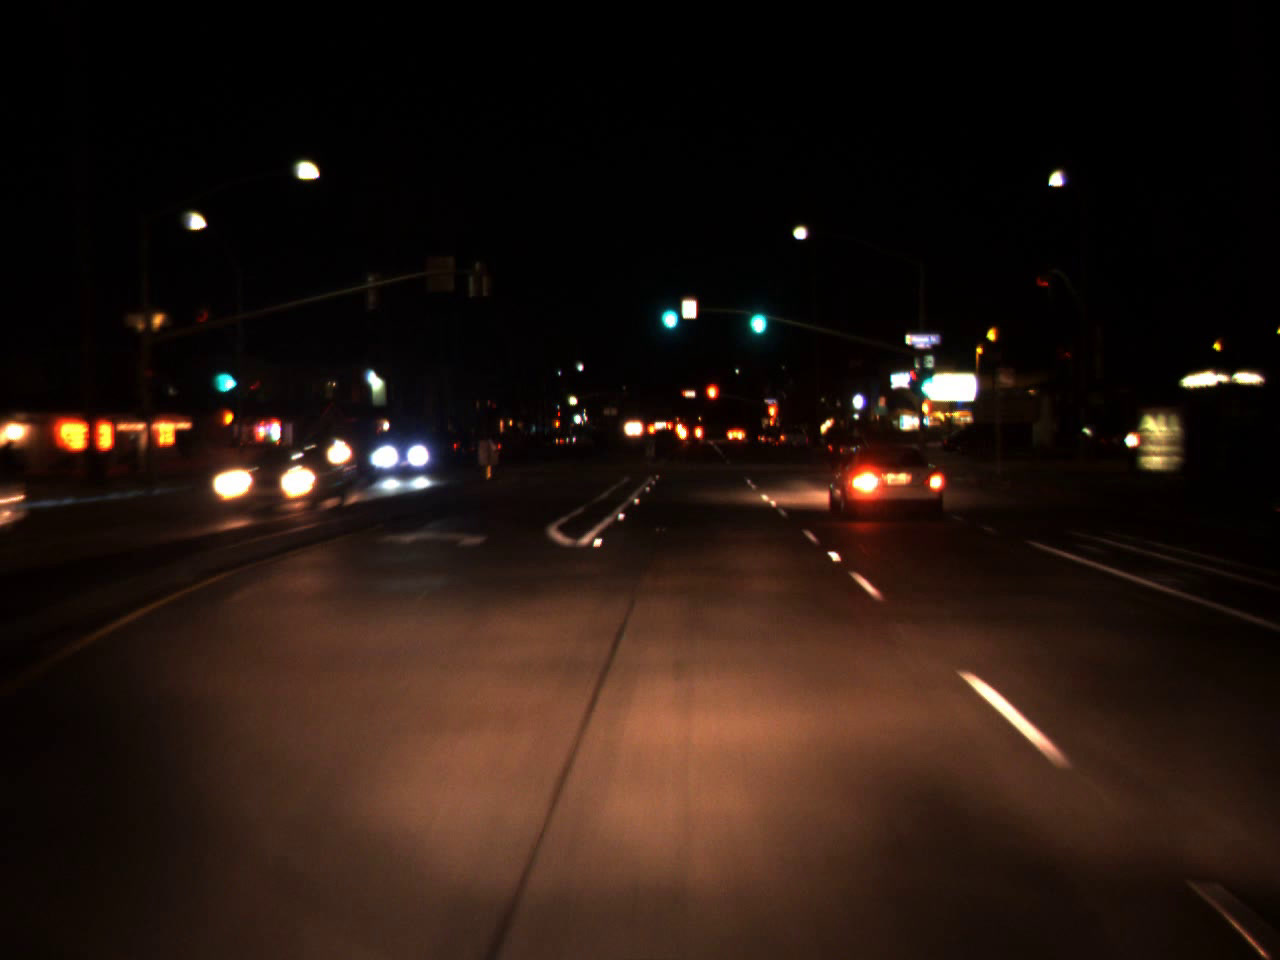go: (743, 289, 770, 340), (211, 351, 236, 399), (656, 287, 681, 335), (915, 355, 936, 400)
stop: (703, 381, 720, 416), (768, 403, 777, 430)
